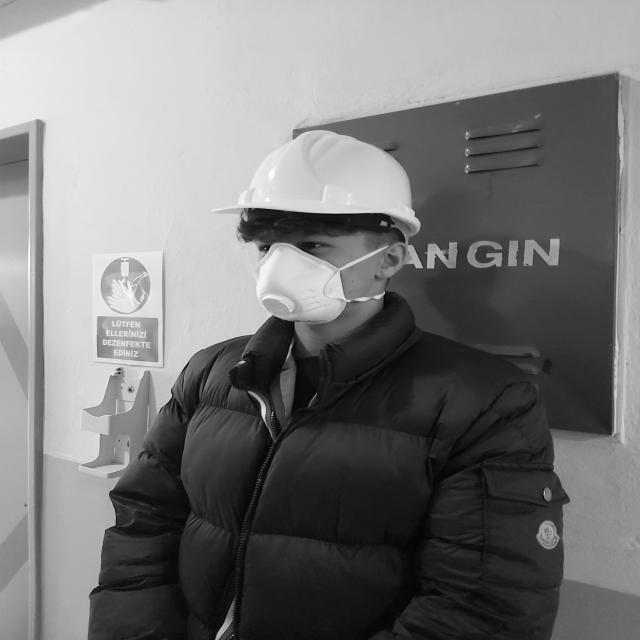safety_helmet: (223, 138, 420, 237)
